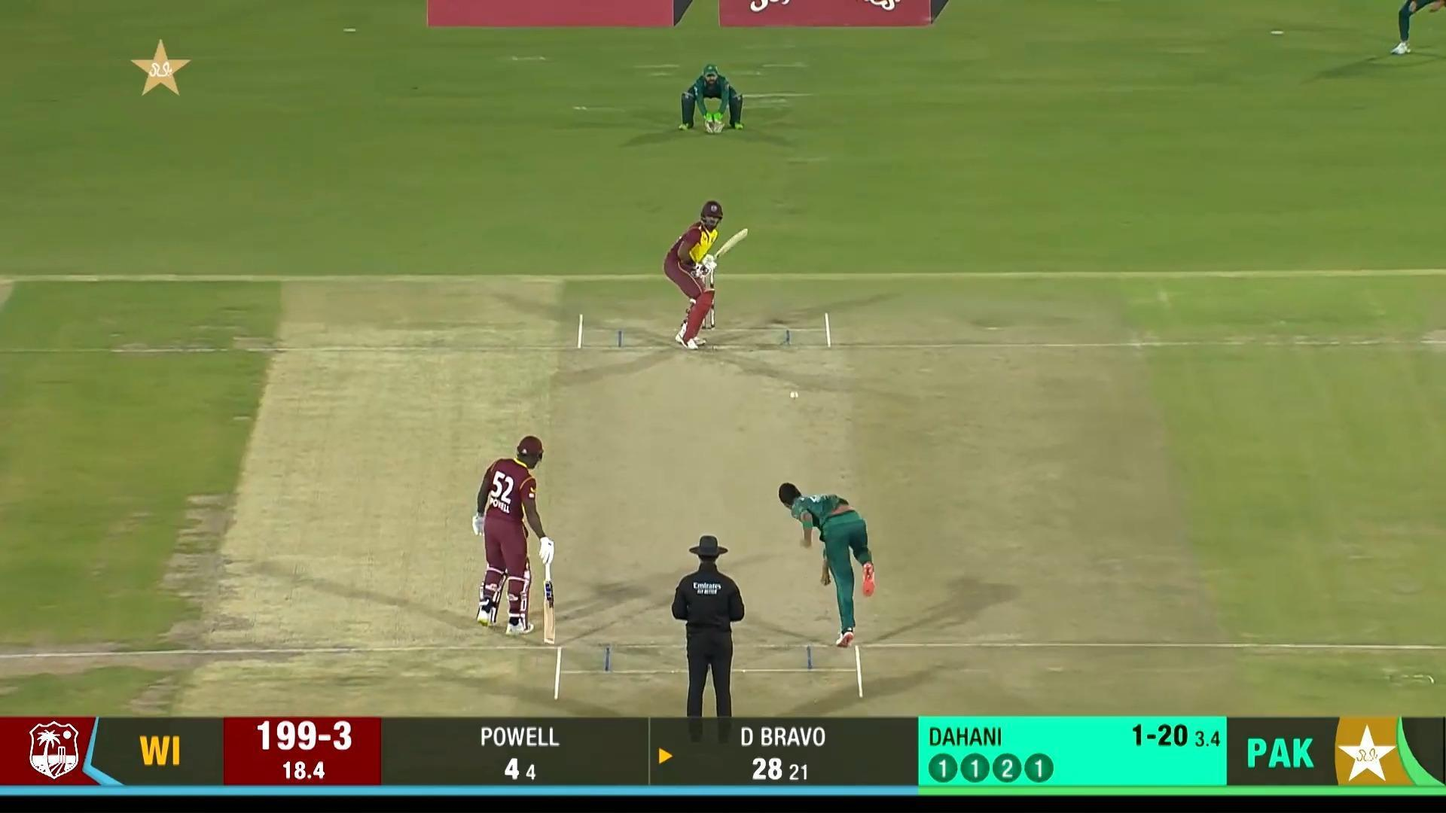BM 1: (664, 200, 748, 350)
BO: (777, 480, 877, 649)
